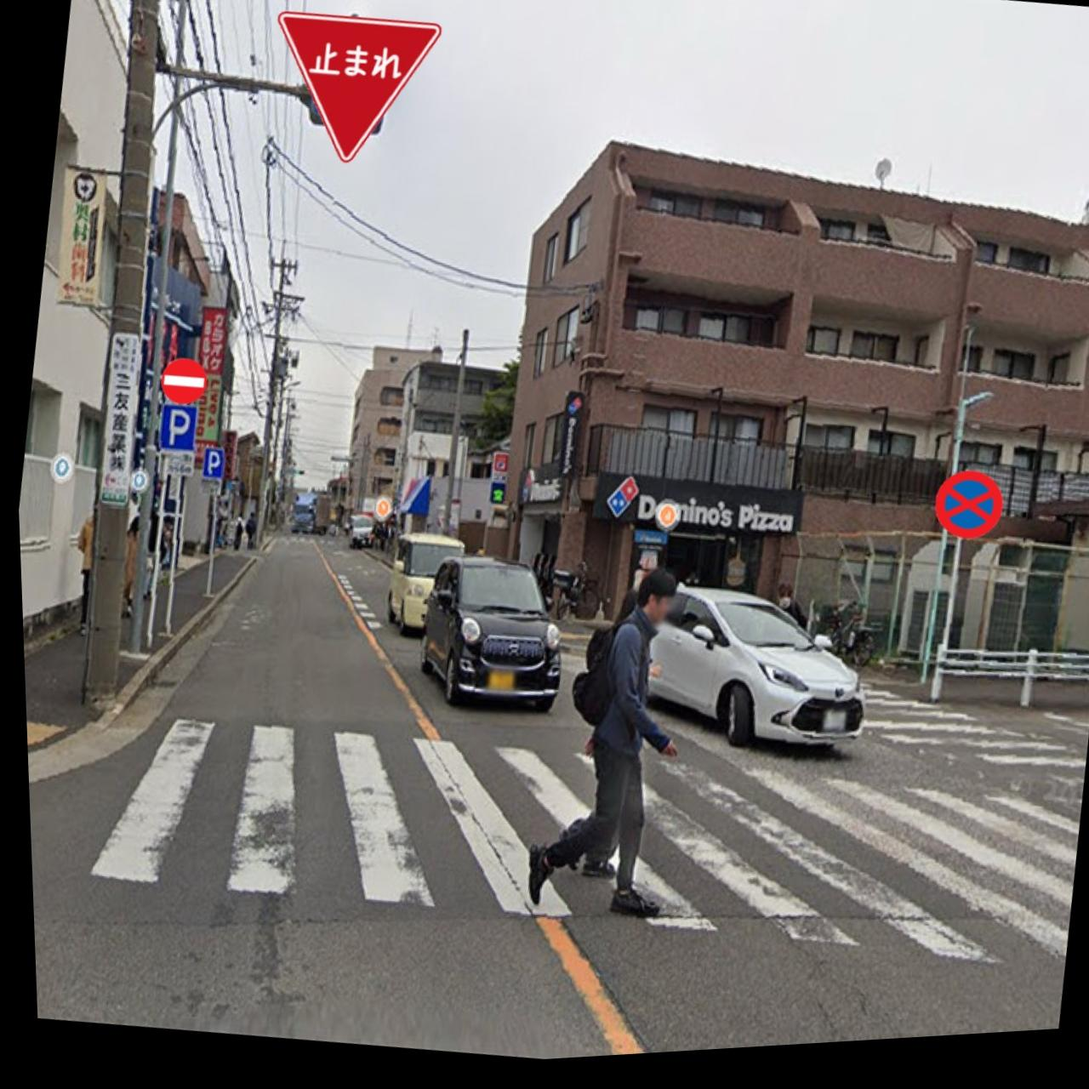barrier: (155, 352, 213, 412)
stop_sign: (927, 461, 1008, 545)
